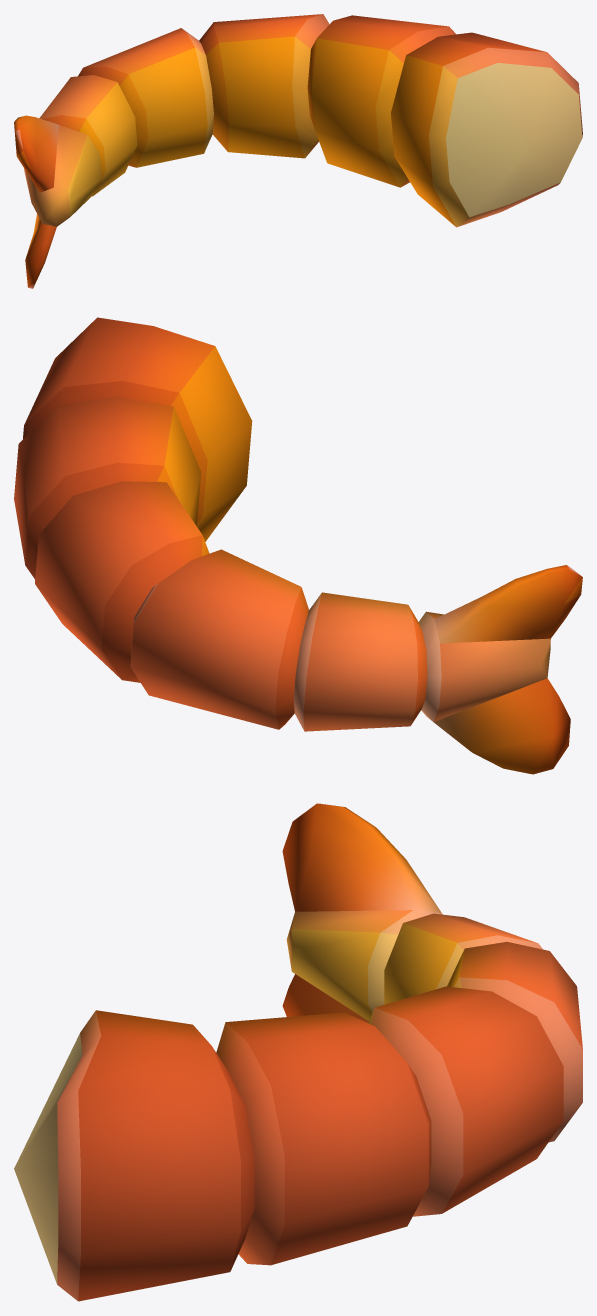
File: shrimp_002.fbx
The picture shows the model from 3 angles, top to bottom: view 1: azimuth 30°, elevation 25°; view 2: azimuth 150°, elevation 25°; view 3: azimuth 270°, elevation 25°; orthographic projection. The views are drawn at different scales.
Visible parts, largest first — view 1: shrimp_002; view 2: shrimp_002; view 3: shrimp_002.
Part boxes in pixels (left/top/right/bottom): shrimp_002: left=14, top=14, right=582, bottom=288; shrimp_002: left=14, top=317, right=582, bottom=774; shrimp_002: left=14, top=803, right=582, bottom=1301.
Size of the model in its own units: 6.9 by 4.65 by 2.71.
